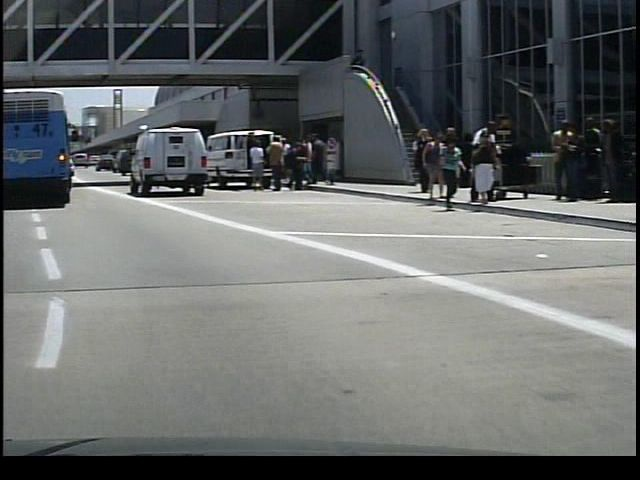person: (468, 120, 499, 207), (467, 129, 497, 208), (260, 133, 289, 194), (304, 132, 326, 185), (244, 135, 262, 193)
